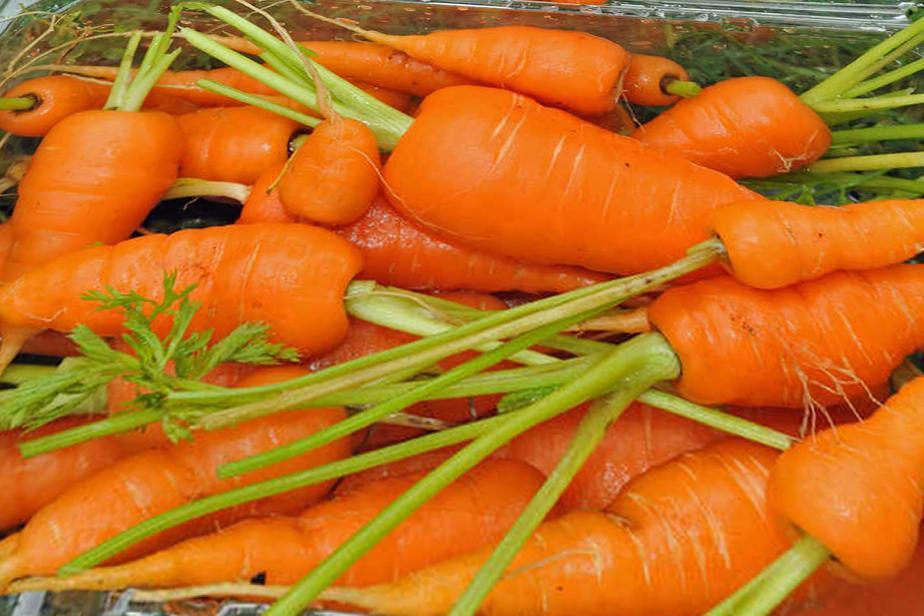carrot: (19, 68, 861, 597), (383, 57, 907, 303), (392, 99, 711, 300), (0, 79, 168, 380), (11, 219, 355, 365), (20, 399, 340, 528), (771, 365, 920, 587), (648, 287, 907, 405), (700, 202, 924, 289), (222, 130, 395, 239)
